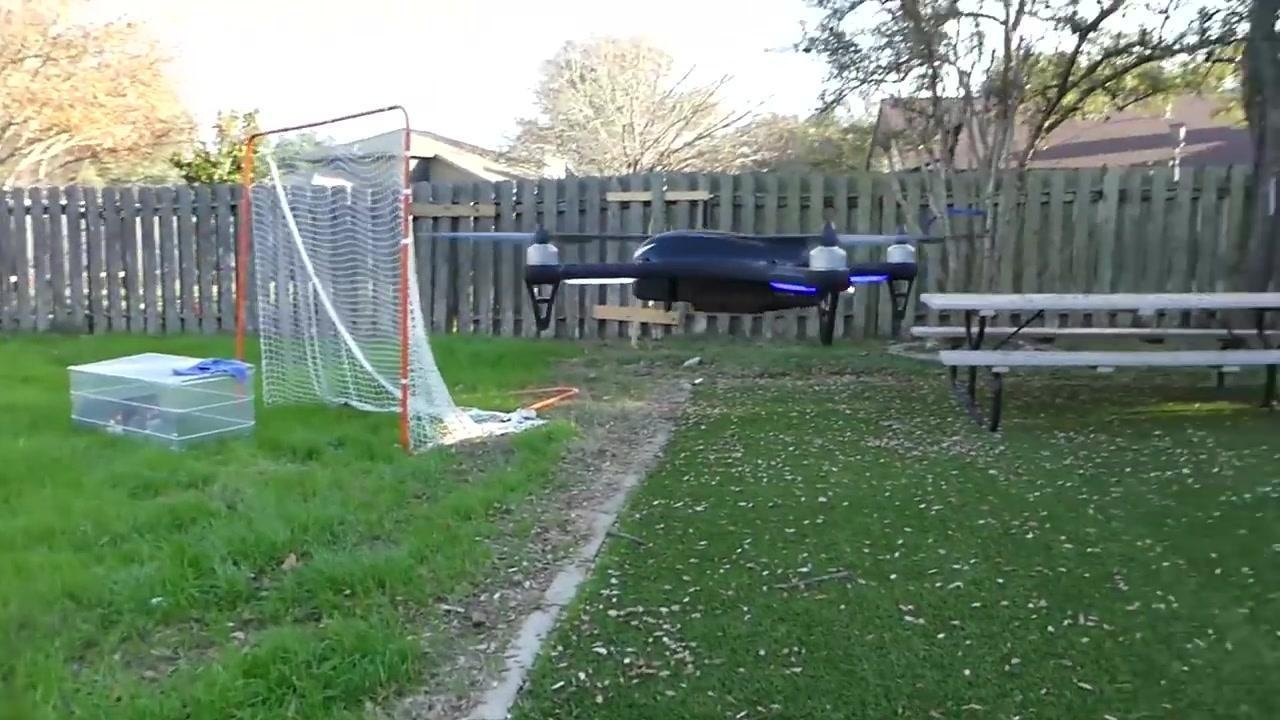UAV: (419, 217, 998, 348)
